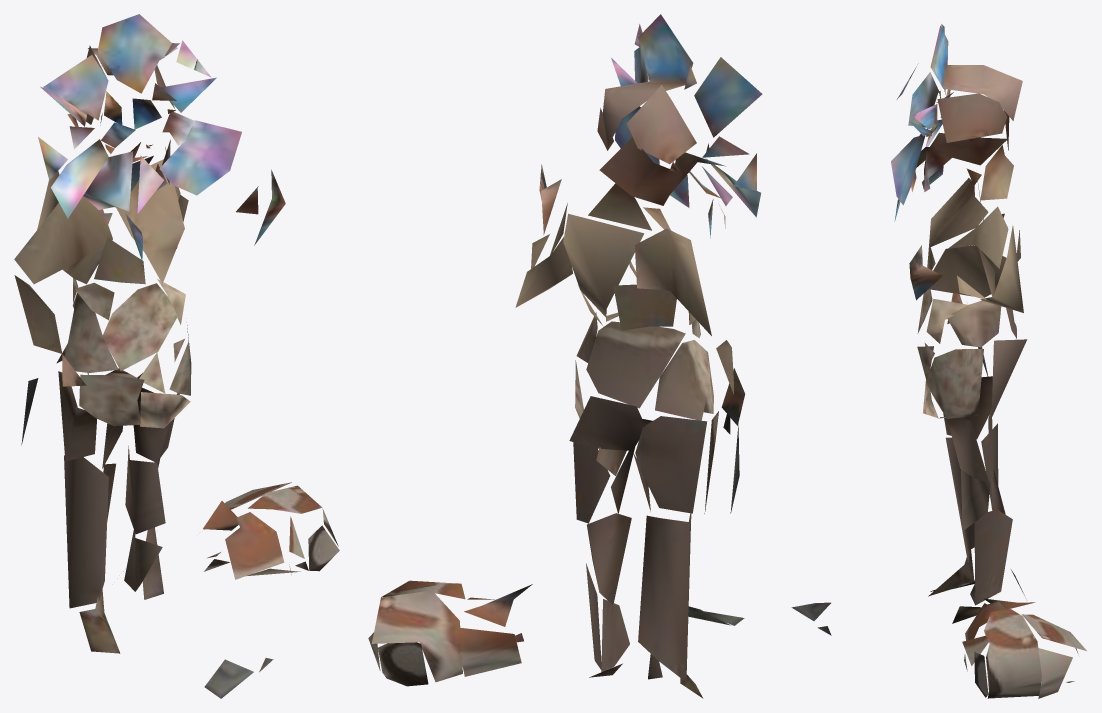
File: crowd_felix_lite.glb
The picture shows the model from 3 angles, left to right: view 1: azimuth 30°, elevation 25°; view 2: azimuth 150°, elevation 25°; view 3: azimuth 270°, elevation 25°; orthographic projection. The views are drawn at different scales.
Visible parts, largest first — view 1: tripo_node_8ef0ef63-db6b-456c-9195-0d16e5945203; view 2: tripo_node_8ef0ef63-db6b-456c-9195-0d16e5945203; view 3: tripo_node_8ef0ef63-db6b-456c-9195-0d16e5945203.
Boxes of the visible parts, box(x1,y1,x2,y2) form: tripo_node_8ef0ef63-db6b-456c-9195-0d16e5945203: box(14, 14, 339, 698); tripo_node_8ef0ef63-db6b-456c-9195-0d16e5945203: box(368, 14, 762, 698); tripo_node_8ef0ef63-db6b-456c-9195-0d16e5945203: box(791, 24, 1086, 698).
Bounding box in the file's own units: 0.9994 × 1.85 × 0.8515.
1 material, 1 textured.
